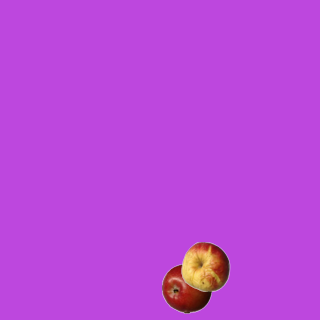Apple Braeburn: (161, 263, 211, 313)
Apple Red Yellow 1: (180, 241, 230, 291)
